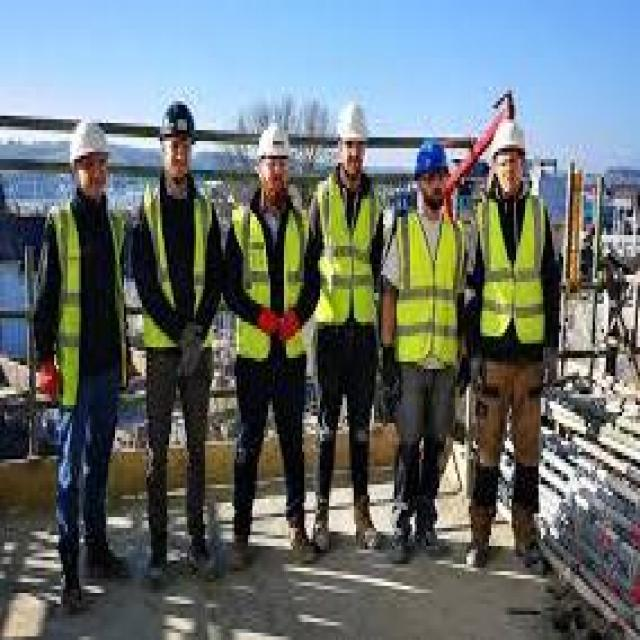Reflective-Jacket: (32, 195, 128, 416), (138, 177, 218, 362), (230, 195, 313, 369), (392, 213, 467, 380), (478, 192, 550, 351), (313, 174, 383, 336)
Safety-Helmet: (61, 108, 115, 174), (153, 90, 201, 148), (333, 94, 372, 148), (410, 134, 451, 181), (252, 116, 293, 162), (487, 116, 527, 159)
